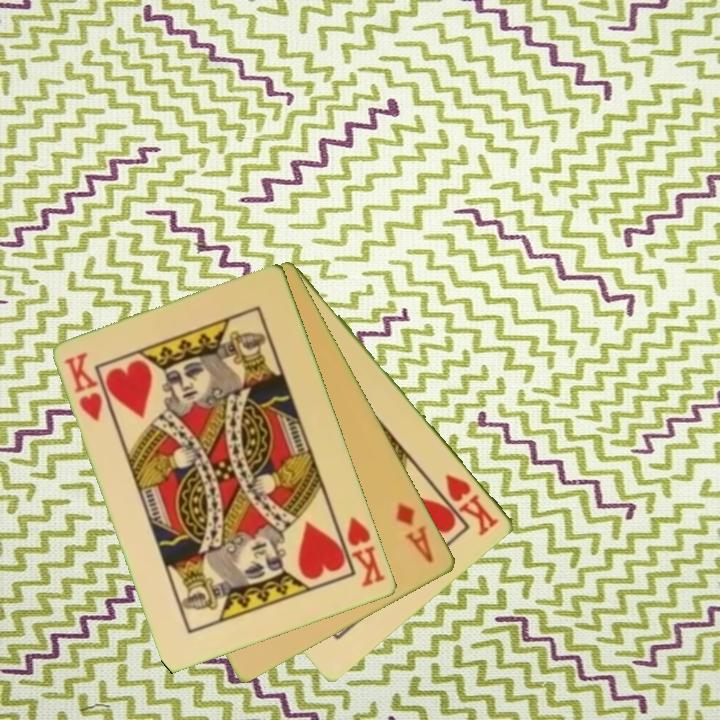Ad: (392, 499, 437, 567)
Kh: (332, 513, 389, 590), (442, 470, 503, 539), (61, 348, 106, 425)
